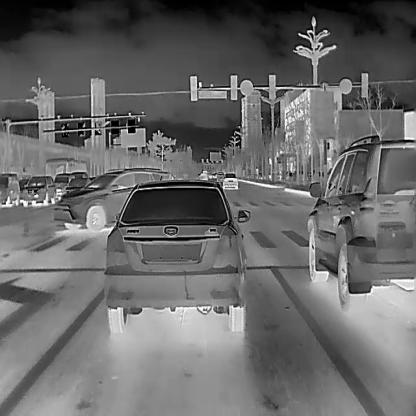bus: (42, 157, 86, 180)
car: (103, 178, 251, 330), (306, 134, 414, 314), (52, 167, 174, 229), (21, 175, 56, 204), (51, 172, 75, 200), (0, 172, 19, 206), (64, 176, 92, 190), (222, 172, 238, 188), (70, 169, 88, 179)
